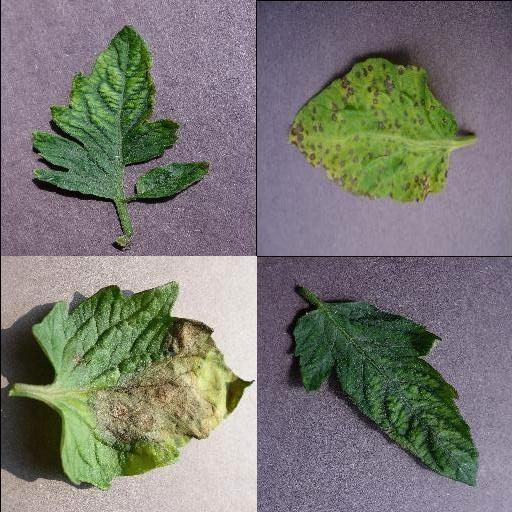Late Blight: (30, 282, 252, 492)
Mosaic Virus: (287, 299, 479, 487), (29, 23, 181, 203)
Septoria: (287, 55, 459, 201)
